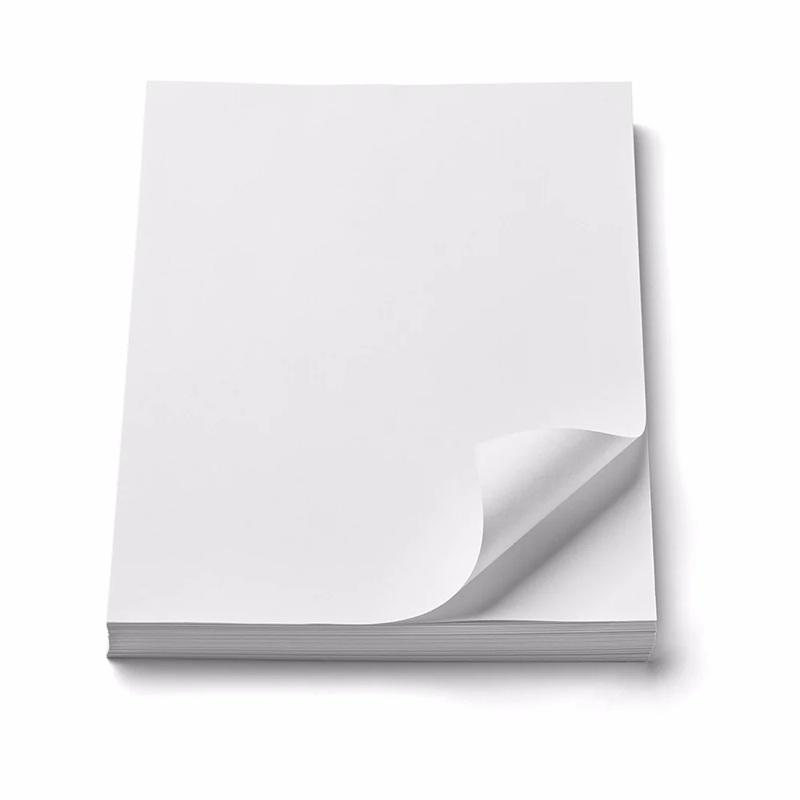plastic: (107, 79, 663, 664)
